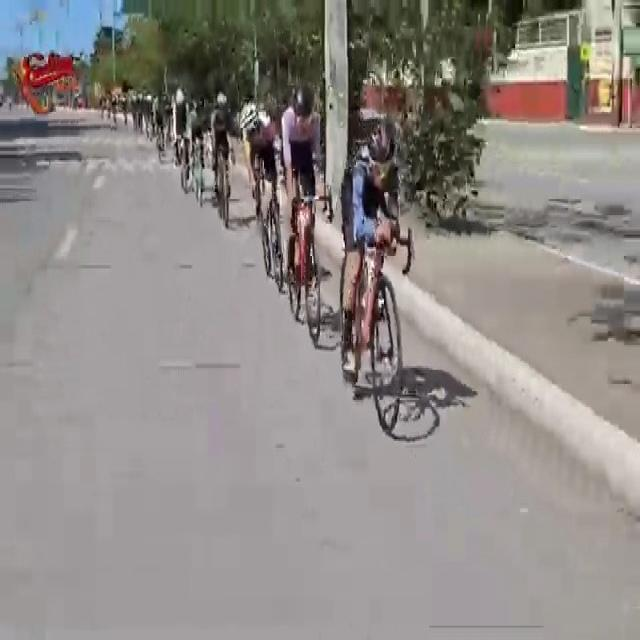bike: (338, 119, 409, 431), (282, 85, 328, 349), (240, 98, 282, 294), (211, 93, 232, 227), (189, 99, 207, 210), (173, 85, 191, 196)
